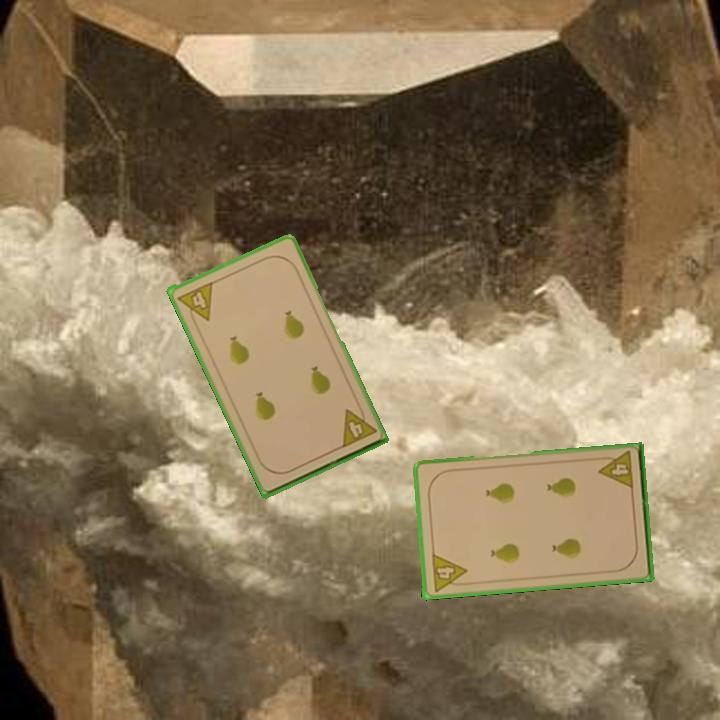4p: (337, 401, 380, 451), (174, 278, 216, 328), (427, 550, 470, 594), (595, 448, 636, 492)
